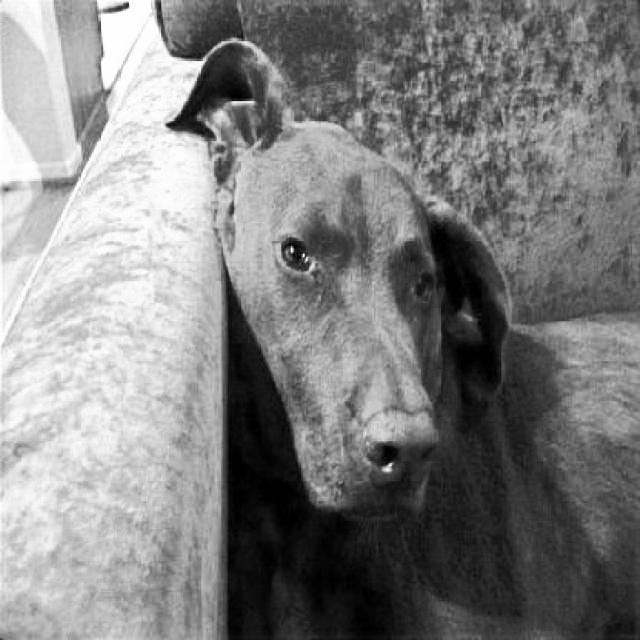Dog: (156, 37, 513, 550)
